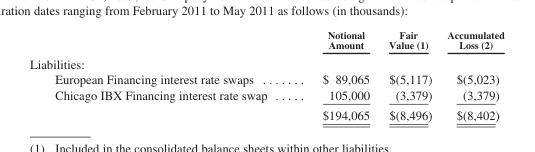table: (28, 28, 503, 121)
table column: (28, 28, 294, 121), (294, 28, 378, 121), (439, 28, 503, 121), (378, 28, 439, 121)
table column header: (28, 28, 503, 53)
table projected row header: (28, 53, 503, 71)
table row: (28, 28, 503, 53), (28, 53, 503, 71), (28, 86, 503, 104), (28, 104, 503, 121), (28, 71, 503, 86)
